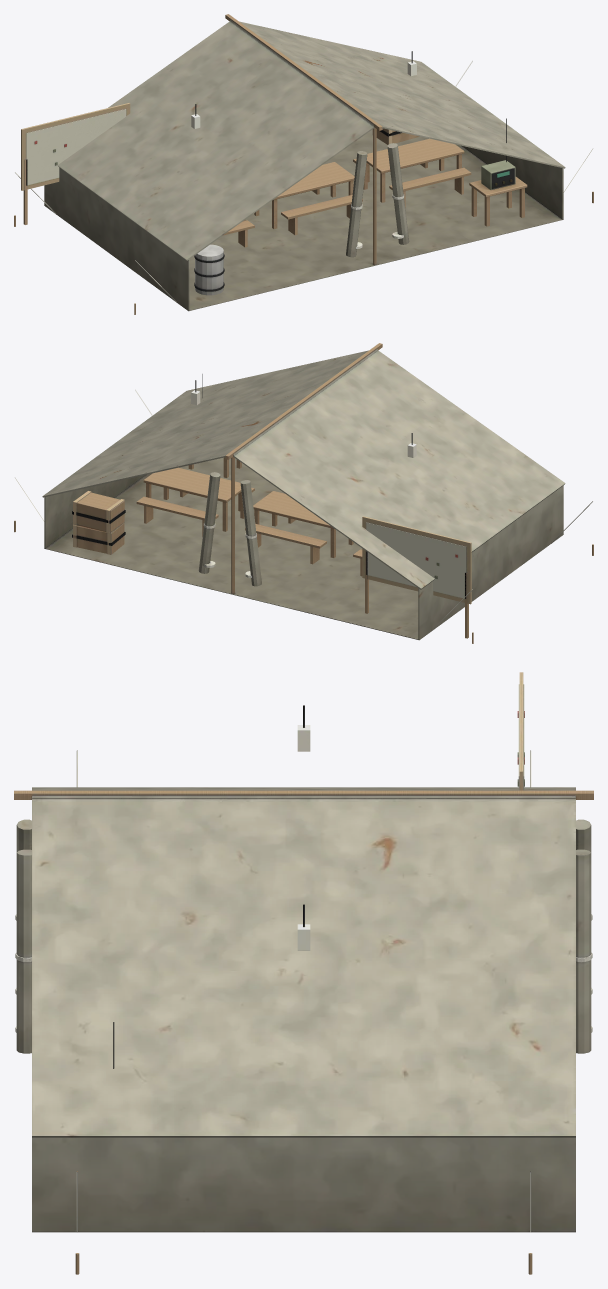
File: d_tentbig.glb
3 renders of one model, top to bottom at view 1: azimuth 30°, elevation 25°; view 2: azimuth 150°, elevation 25°; view 3: azimuth 270°, elevation 25°, orthographic. The views are drawn at different scales.
Parts seen in each view (by area): view 1: BldU_Roof, BldU_Shell, BldU_Interior; view 2: BldU_Roof, BldU_Shell, BldU_Interior; view 3: BldU_Roof, BldU_Shell, BldU_Interior.
Part boxes in pixels (x1,y1,x2,y2): BldU_Roof: (57, 14, 565, 260); BldU_Shell: (14, 60, 593, 314); BldU_Interior: (21, 51, 527, 295); BldU_Roof: (42, 343, 565, 589); BldU_Shell: (14, 389, 593, 643); BldU_Interior: (72, 374, 471, 638); BldU_Roof: (14, 787, 593, 1137); BldU_Shell: (15, 750, 592, 1274); BldU_Interior: (113, 672, 524, 1068).
Size of the model in its own units: 11.03 by 3.3 by 6.4.
3 materials, 3 textured.
